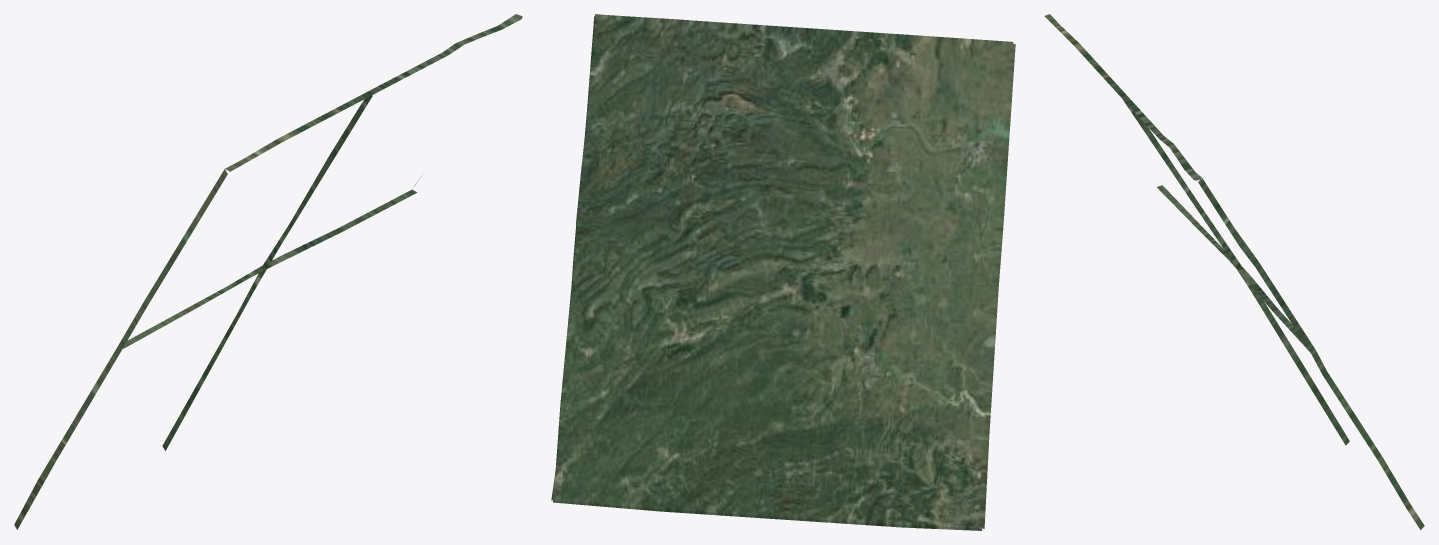
3 views of the same model, side by side, from view 1: azimuth 30°, elevation 25°; view 2: azimuth 150°, elevation 25°; view 3: azimuth 270°, elevation 25° (orthographic). The views are drawn at different scales.
Bounding box in the file's own units: 313327 × 276186 × 245843.
1 material, 1 textured.
